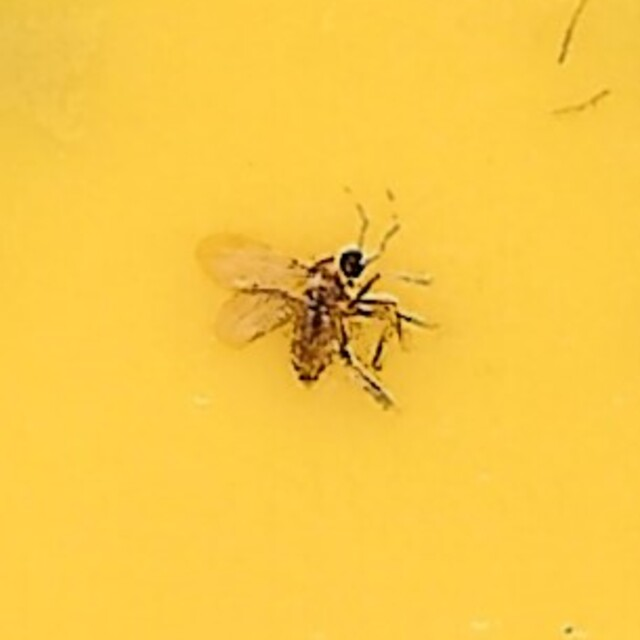Brachycera: (210, 222, 430, 418)
